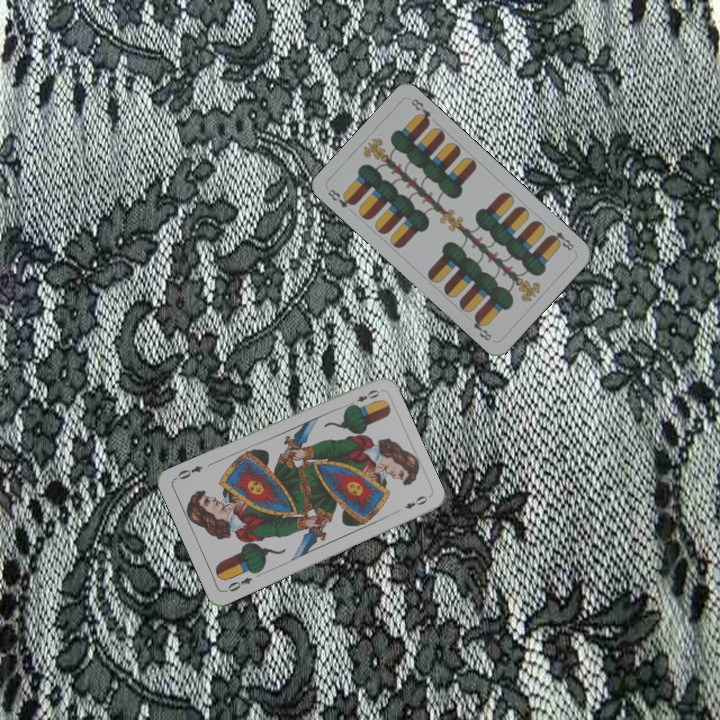E8: (324, 185, 358, 210), (545, 227, 577, 253)
EO: (344, 385, 382, 409), (221, 573, 255, 595)
